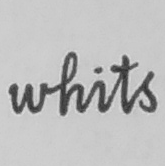h: (56, 49, 86, 117)
i: (89, 65, 107, 114)
s: (135, 69, 160, 114)
t: (109, 52, 140, 116)
w: (7, 80, 51, 116)
